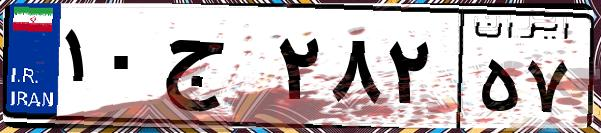0: (110, 28, 158, 98)
1: (57, 26, 110, 100)
2: (270, 28, 330, 110), (385, 28, 445, 110)
5: (475, 38, 525, 113)
7: (525, 38, 570, 115)
8: (330, 28, 385, 110)
ج: (158, 20, 270, 120)
